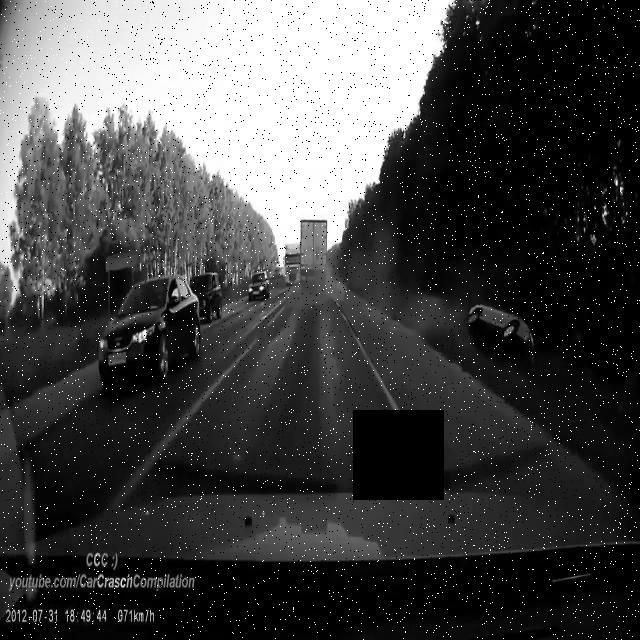severe: (466, 292, 538, 368)
